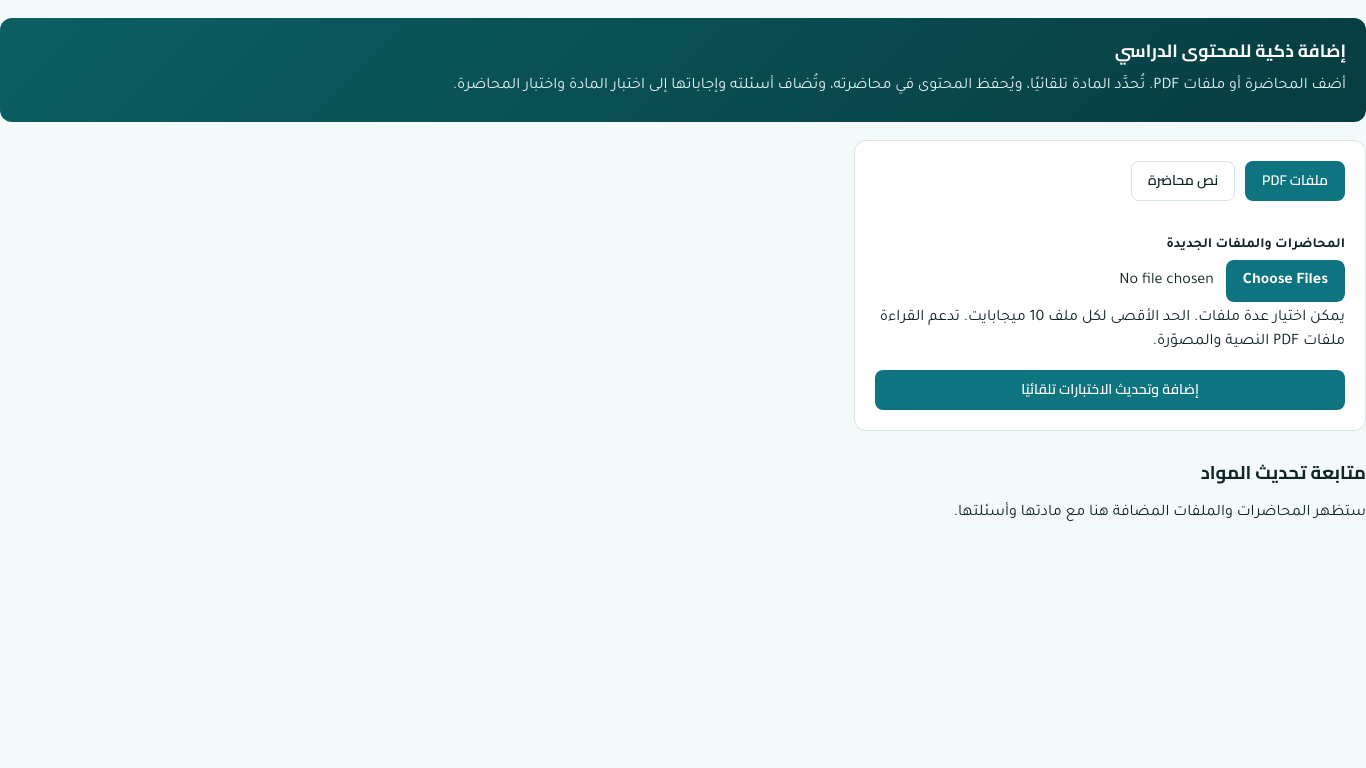
automatic content upload › accepts content without asking the administrator to choose a course or lecture
Expected: the button "إضافة وتحديث الاختبارات تلقائيًا" is enabled, [875, 370, 1345, 410]
Click the button "نص محاضرة". click: x=1183, y=181
box: [1131, 161, 1235, 201]
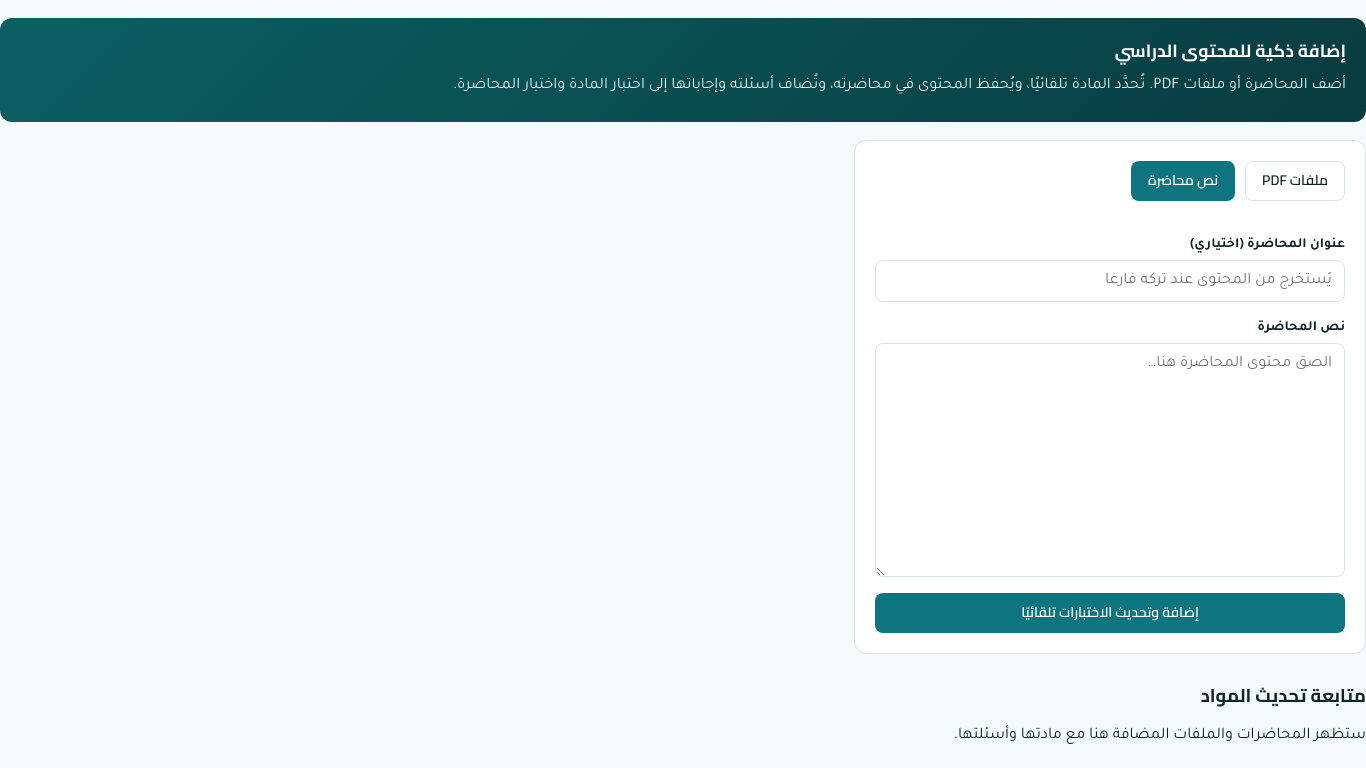
Type "المحاضرة الخامسة" into the field labelled "عنوان المحاضرة (اختياري)". click: x=1110, y=281
box: [875, 260, 1345, 302]
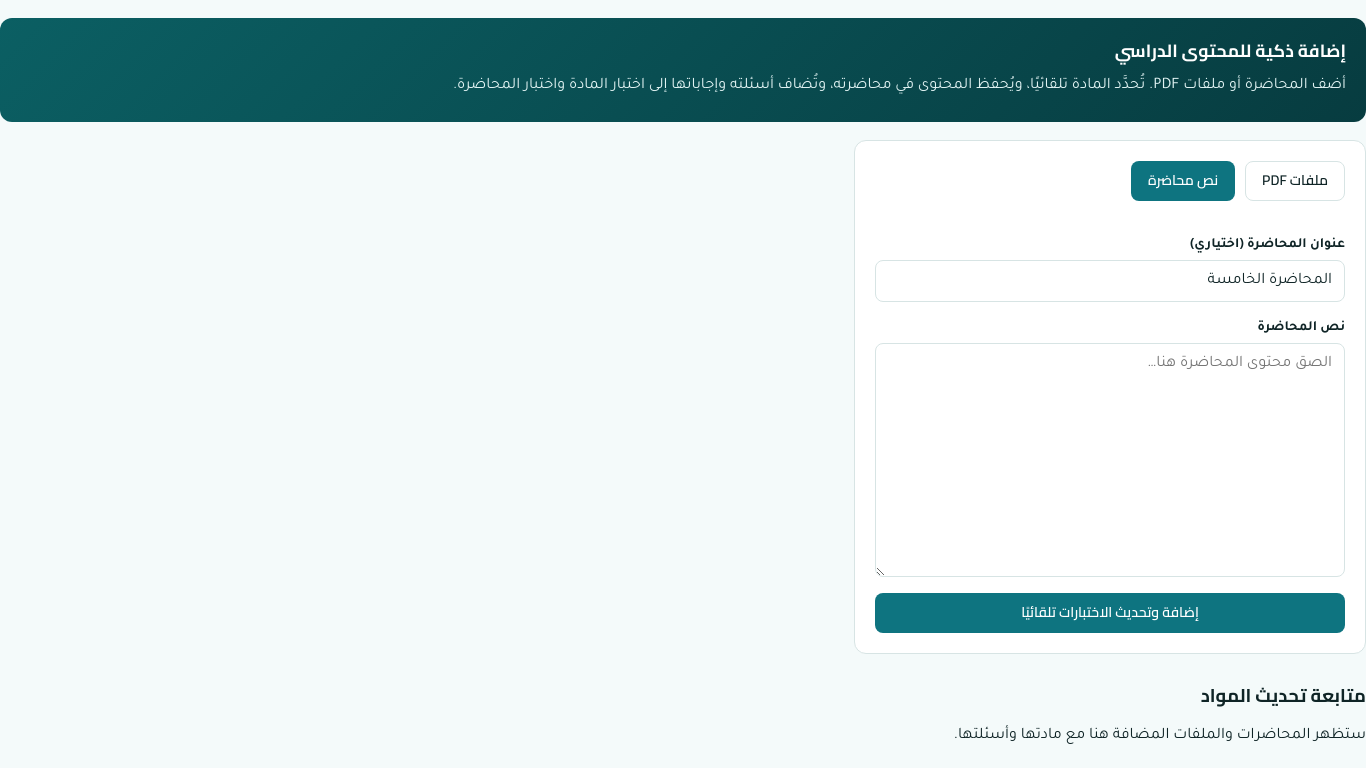
Type "تتضمن إدارة المخاطر تحديد الأحداث المحتملة وتحليل الاحتمالية والأثر قبل اختيار خطة الاستجابة المناسبة لحماية أهداف المؤسسة. تساعد مصفوفة المخاطر على ترتيب الأولويات وتوجيه الموارد نحو المخاطر ذات التأ" into the text box labelled "نص المحاضرة". click: x=1110, y=460
box: [875, 343, 1345, 577]
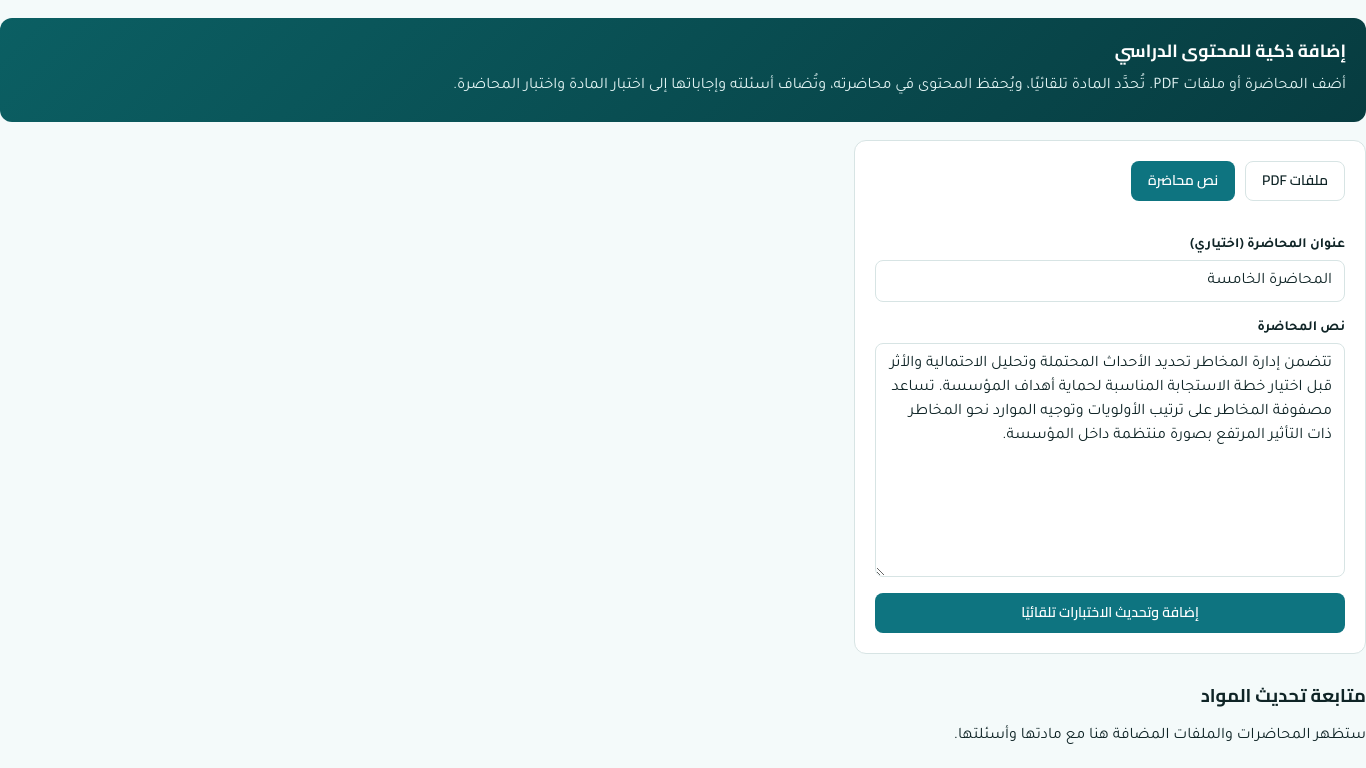
Click the button "إضافة وتحديث الاختبارات تلقائيًا". click: x=1110, y=613
box: [875, 593, 1345, 633]
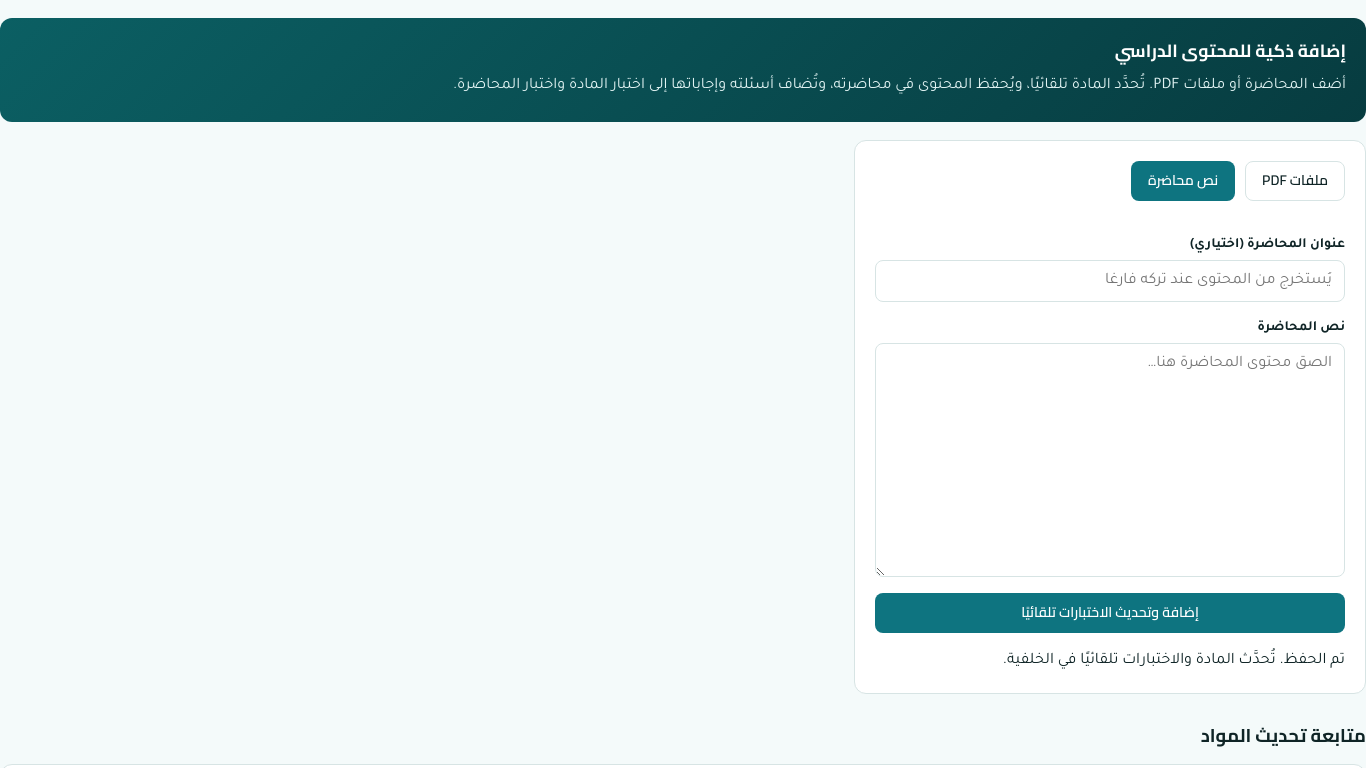
Expected: the message shows "في الخلفية", [1003, 653, 1345, 669]
